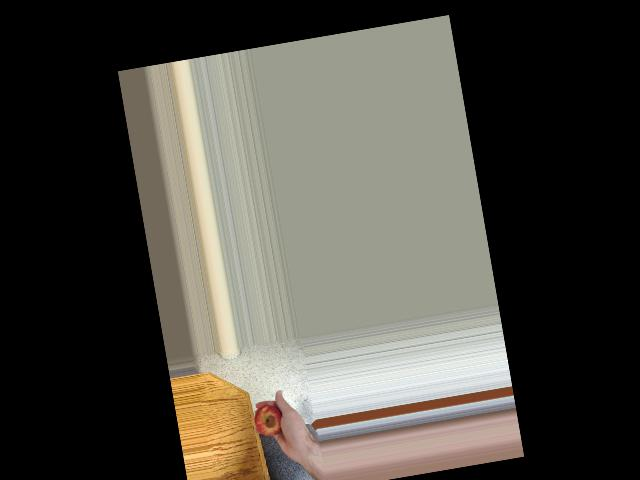apple: (251, 401, 288, 443)
